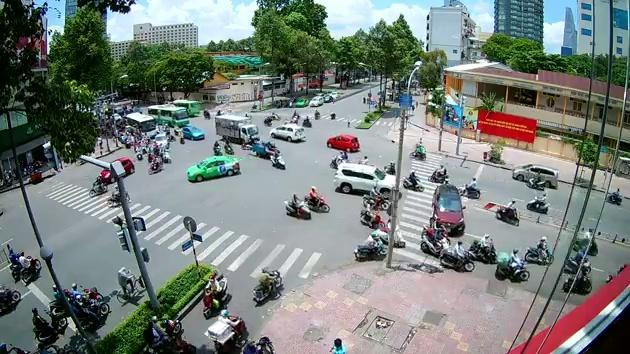xe dap: (114, 265, 144, 303)
xe hoi: (333, 163, 395, 197), (431, 183, 465, 234), (184, 154, 240, 181), (512, 162, 559, 187), (98, 155, 135, 182), (268, 124, 304, 143), (325, 132, 359, 152), (182, 125, 205, 140)
xe may: (437, 239, 474, 273), (201, 273, 228, 319), (494, 247, 529, 280), (252, 266, 282, 302), (523, 235, 554, 265), (16, 249, 41, 282), (282, 191, 309, 219), (303, 185, 330, 213), (494, 198, 520, 227), (401, 168, 423, 191), (525, 191, 549, 212)
xe tai: (214, 113, 259, 142)
